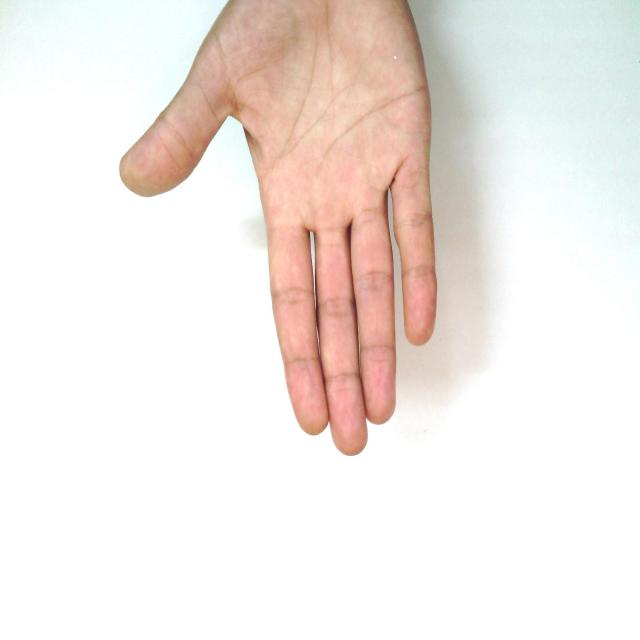others: (114, 1, 542, 482)
